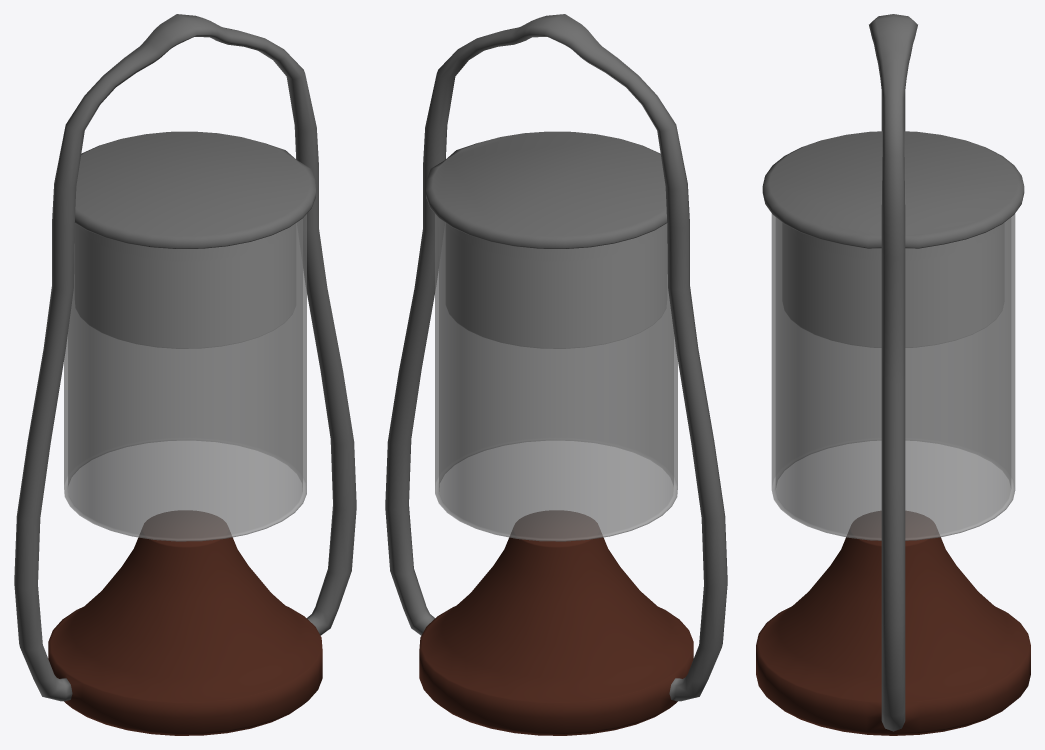
Rendered from oil_lamp.dae.
The picture shows the model from 3 angles, left to right: view 1: azimuth 30°, elevation 25°; view 2: azimuth 150°, elevation 25°; view 3: azimuth 270°, elevation 25°; orthographic projection.
Visible parts, largest first — view 1: Cylinder; view 2: Cylinder; view 3: Cylinder.
Part boxes in pixels (left/top/right/bottom): Cylinder: left=14, top=14, right=356, bottom=735; Cylinder: left=385, top=14, right=727, bottom=735; Cylinder: left=756, top=14, right=1030, bottom=735.
Size of the model in its own units: 3.01 by 2.1 by 5.59.
